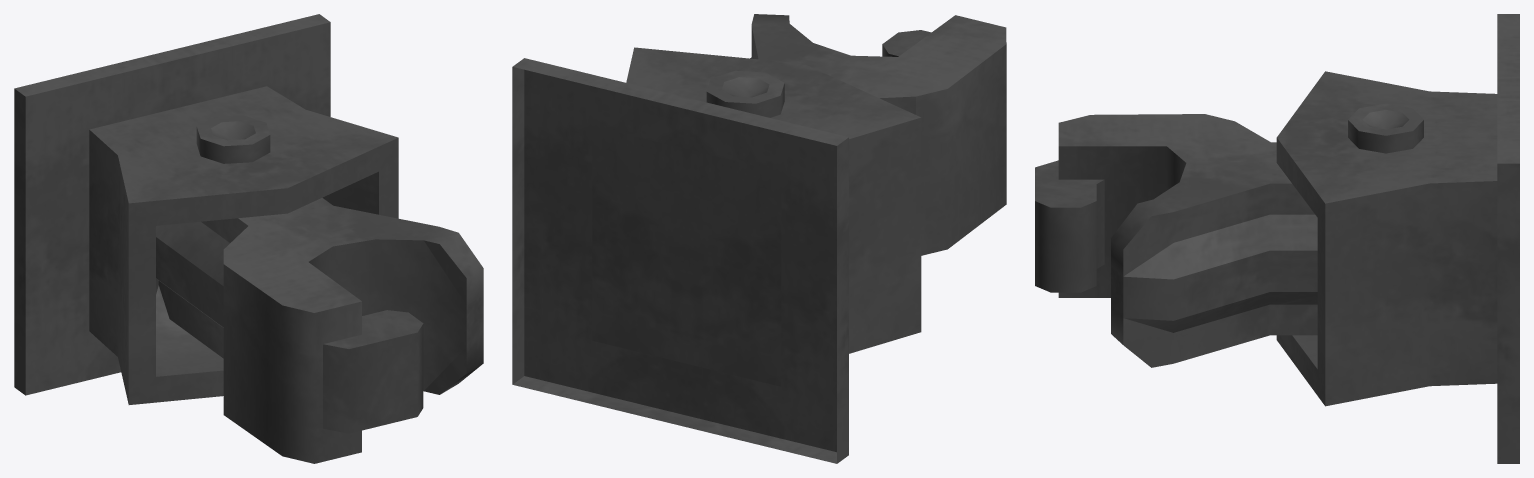
The model's file is Coupler.fbx.
3 views of the same model, side by side, from view 1: azimuth 30°, elevation 25°; view 2: azimuth 150°, elevation 25°; view 3: azimuth 270°, elevation 25° (orthographic). The views are drawn at different scales.
Parts seen in each view (by area): view 1: Body_Coupler, Coupler; view 2: Body_Coupler, Coupler; view 3: Body_Coupler, Coupler.
Part boxes in pixels (left/top/right/bottom): Body_Coupler: left=14, top=14, right=398, bottom=404; Coupler: left=156, top=115, right=483, bottom=463; Body_Coupler: left=512, top=47, right=921, bottom=463; Coupler: left=706, top=14, right=1006, bottom=255; Body_Coupler: left=1276, top=14, right=1519, bottom=463; Coupler: left=1035, top=103, right=1423, bottom=367.
Bounding box in the file's own units: 44.99 × 42.11 × 61.6.
